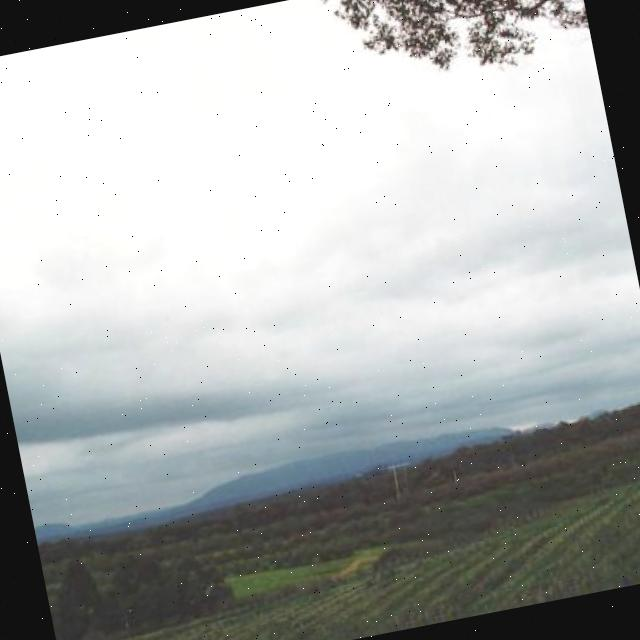Sc: (1, 52, 640, 455)
